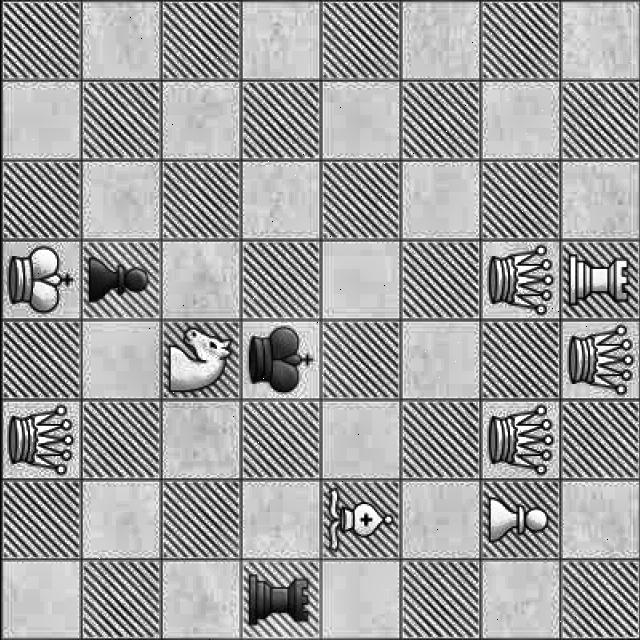black king: (245, 324, 319, 399)
black pawn: (82, 244, 158, 308)
black rook: (238, 562, 317, 638)
white bishop: (317, 484, 398, 555)
white king: (3, 243, 78, 316)
white pawn: (481, 486, 553, 550)
white queen: (475, 402, 557, 477), (479, 244, 556, 318), (0, 404, 77, 474), (560, 326, 634, 396)
white rook: (560, 253, 636, 310)
whiteknight: (162, 323, 236, 398)
